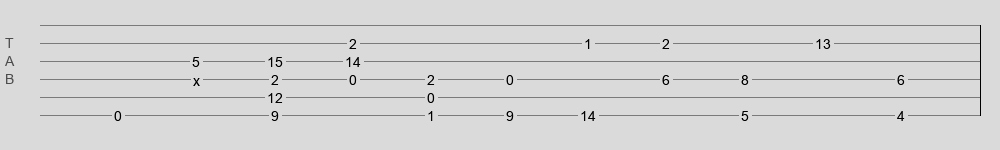0: (114, 108, 122, 118), (349, 72, 357, 82), (427, 90, 435, 100), (506, 72, 514, 82)
1: (427, 108, 435, 118), (584, 36, 592, 46)
12: (267, 90, 283, 100)
13: (815, 36, 831, 46)
14: (345, 54, 361, 64), (580, 108, 596, 118)
15: (267, 54, 283, 64)
2: (271, 72, 279, 82), (349, 36, 357, 46), (427, 72, 435, 82), (662, 36, 670, 46)
4: (897, 108, 905, 118)
5: (192, 54, 200, 64), (741, 108, 749, 118)
6: (662, 72, 670, 82), (897, 72, 905, 82)
8: (741, 72, 749, 82)
9: (271, 108, 279, 118), (506, 108, 514, 118)
x: (193, 73, 200, 81)
